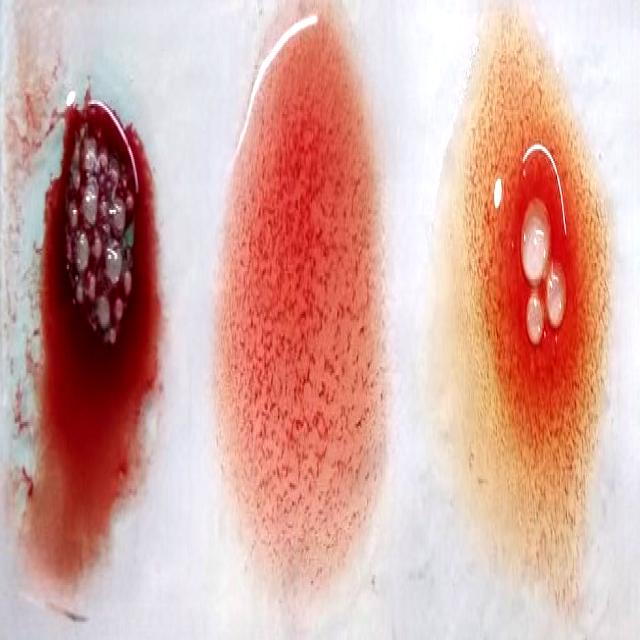A: (10, 15, 150, 617)
B: (452, 28, 612, 614)
D: (229, 23, 376, 566)
